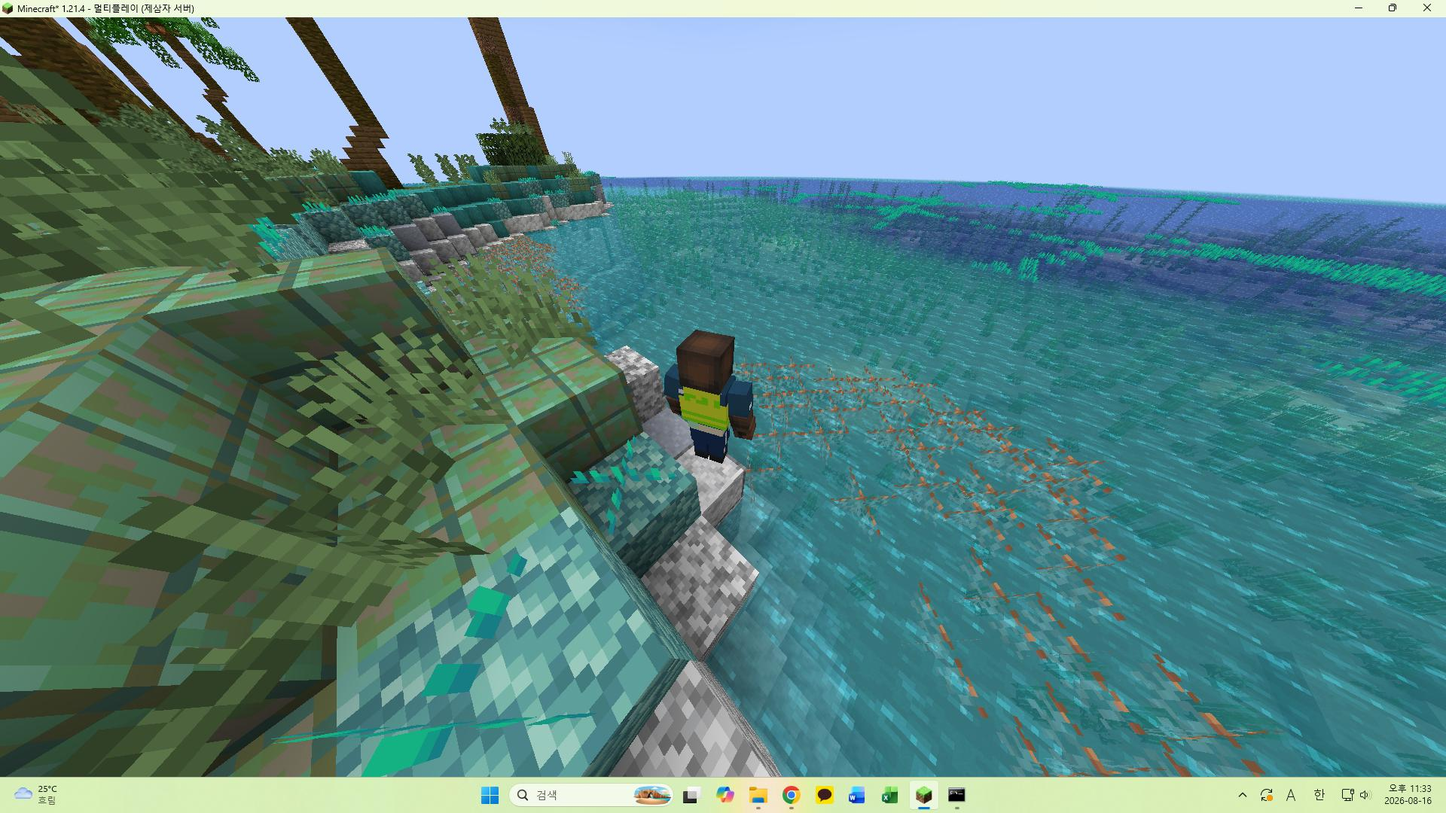Guardian: (664, 330, 755, 463)
